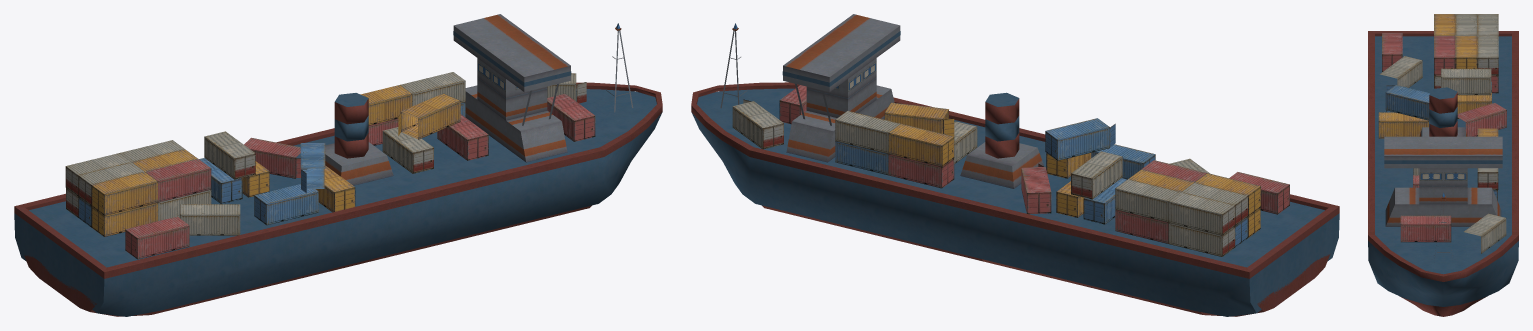
The model's file is Building_Hc01_lod2.glb.
3 renders of one model, left to right at view 1: azimuth 30°, elevation 25°; view 2: azimuth 150°, elevation 25°; view 3: azimuth 270°, elevation 25°, orthographic. The views are drawn at different scales.
Parts seen in each view (by area): view 1: xiutz_hc_01_lod2_0; view 2: xiutz_hc_01_lod2_0; view 3: xiutz_hc_01_lod2_0.
Boxes of the visible parts, x1,y1,x2,y2 form: xiutz_hc_01_lod2_0: [14, 14, 662, 316]; xiutz_hc_01_lod2_0: [691, 14, 1339, 316]; xiutz_hc_01_lod2_0: [1368, 14, 1518, 316].
Bounding box in the file's own units: 129 × 32.34 × 33.56.
2 materials, 2 textured.
